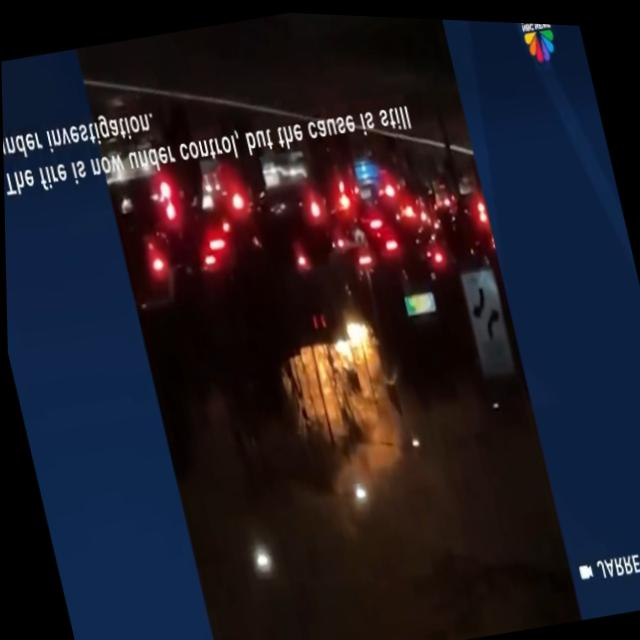Fire: (319, 313, 387, 371)
